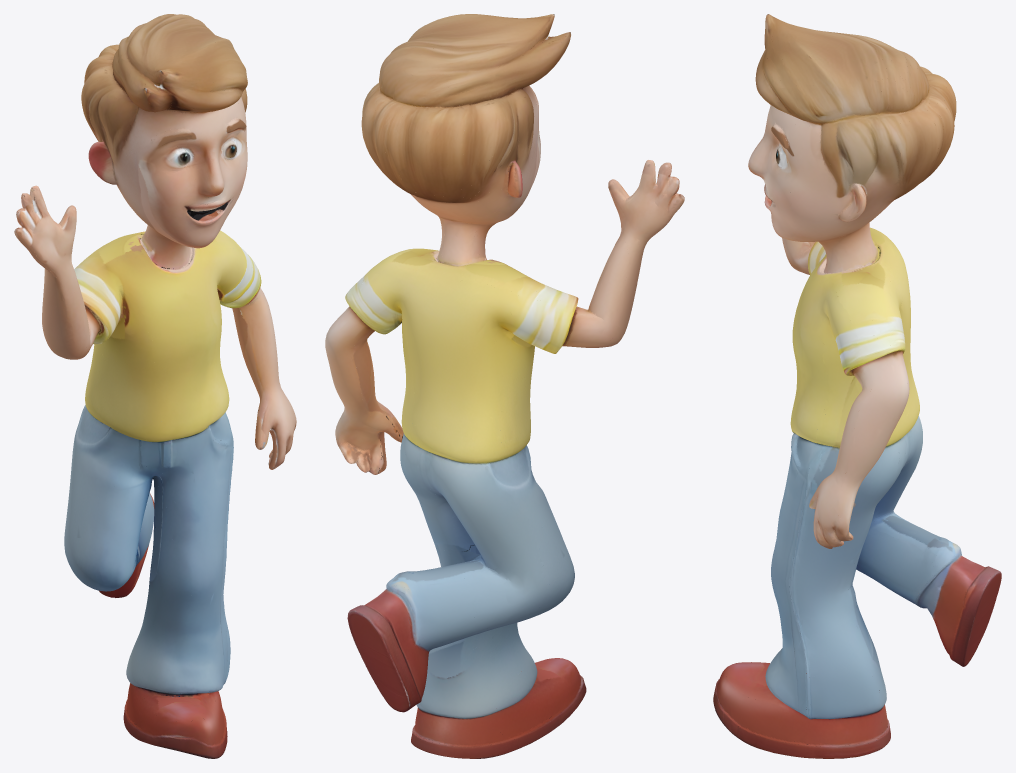
The model's file is HombreCasilla4.glb.
3 views of the same model, side by side, from view 1: azimuth 30°, elevation 25°; view 2: azimuth 150°, elevation 25°; view 3: azimuth 270°, elevation 25° (orthographic). The views are drawn at different scales.
Parts seen in each view (by area): view 1: model; view 2: model; view 3: model.
Part boxes in pixels (x1,y1,x2,y2): model: (14,14,296,758); model: (325,14,684,758); model: (713,14,1001,758).
Bounding box in the file's own units: 0.8842 × 1.9 × 0.7041.
Materials: 1 (1 with a texture image).
